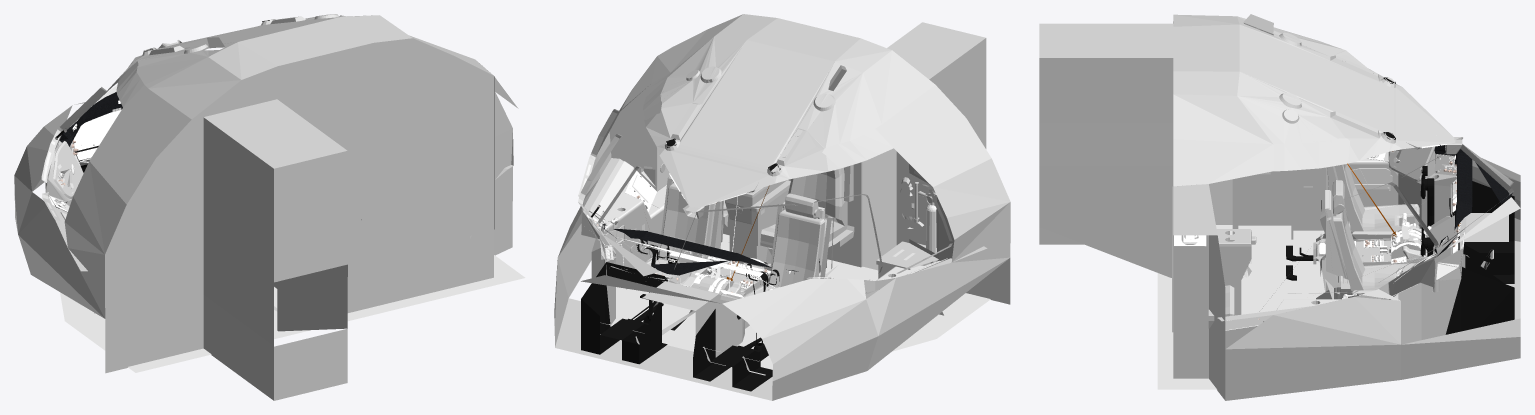
3 renders of one model, left to right at view 1: azimuth 30°, elevation 25°; view 2: azimuth 150°, elevation 25°; view 3: azimuth 270°, elevation 25°, orthographic. The views are drawn at different scales.
Visible parts, largest first — view 1: B777; view 2: B777; view 3: B777.
Part boxes in pixels (box(x1,y1,x2,y2)): B777: box(14, 14, 525, 400); B777: box(554, 14, 1010, 400); B777: box(1039, 14, 1520, 400).
Bounding box in the file's own units: 3.7 × 2.18 × 3.72.
51 materials, 2 textured.
